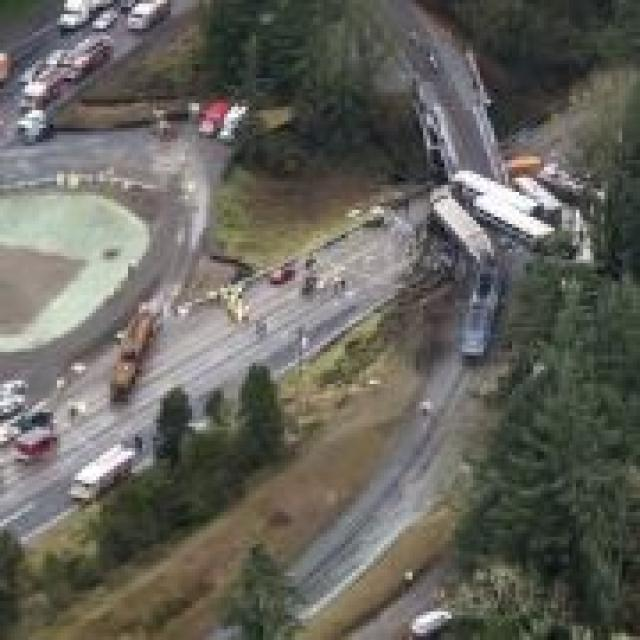traffic_incident: (420, 146, 594, 266)
